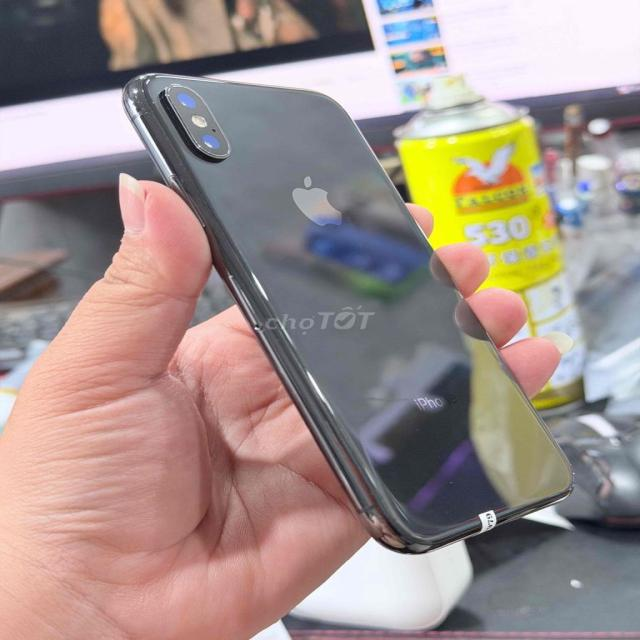gen_x_xs: (125, 74, 571, 552)
scratch: (120, 82, 175, 156), (426, 471, 466, 502), (170, 156, 204, 178), (404, 424, 436, 446), (168, 71, 190, 91), (190, 137, 203, 154)
